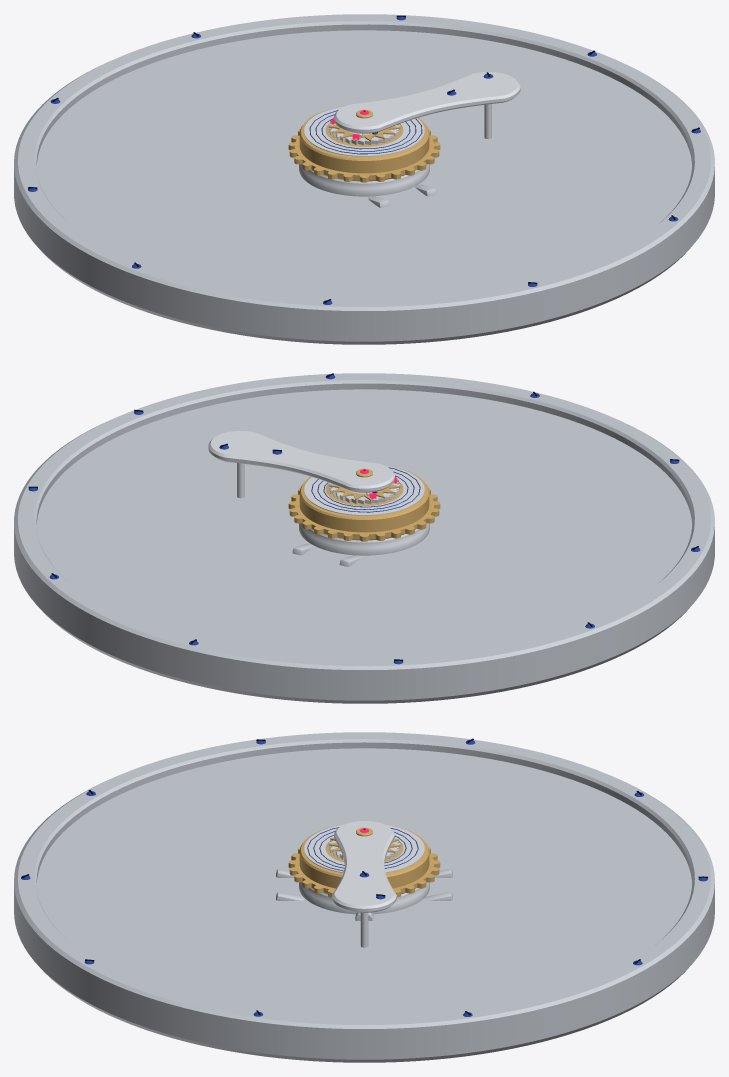
The model's file is tourbillon.glb.
3 renders of one model, top to bottom at view 1: azimuth 30°, elevation 25°; view 2: azimuth 150°, elevation 25°; view 3: azimuth 270°, elevation 25°, orthographic.
Visible parts, largest first — view 1: Platina, Barril, Puente, Caja; view 2: Platina, Barril, Puente, Caja; view 3: Platina, Barril, Puente, Caja.
Part boxes in pixels (bbox=[...]): Platina: bbox=[14, 14, 714, 344]; Barril: bbox=[288, 106, 440, 182]; Puente: bbox=[334, 72, 520, 138]; Caja: bbox=[299, 164, 436, 207]; Platina: bbox=[14, 373, 714, 703]; Barril: bbox=[288, 465, 440, 541]; Puente: bbox=[208, 431, 394, 498]; Caja: bbox=[292, 523, 429, 566]; Platina: bbox=[14, 732, 714, 1062]; Barril: bbox=[288, 824, 440, 897]; Puente: bbox=[332, 821, 396, 947]; Caja: bbox=[276, 868, 452, 920].
Bounding box in the file's own units: 44236 × 6074 × 44236.
